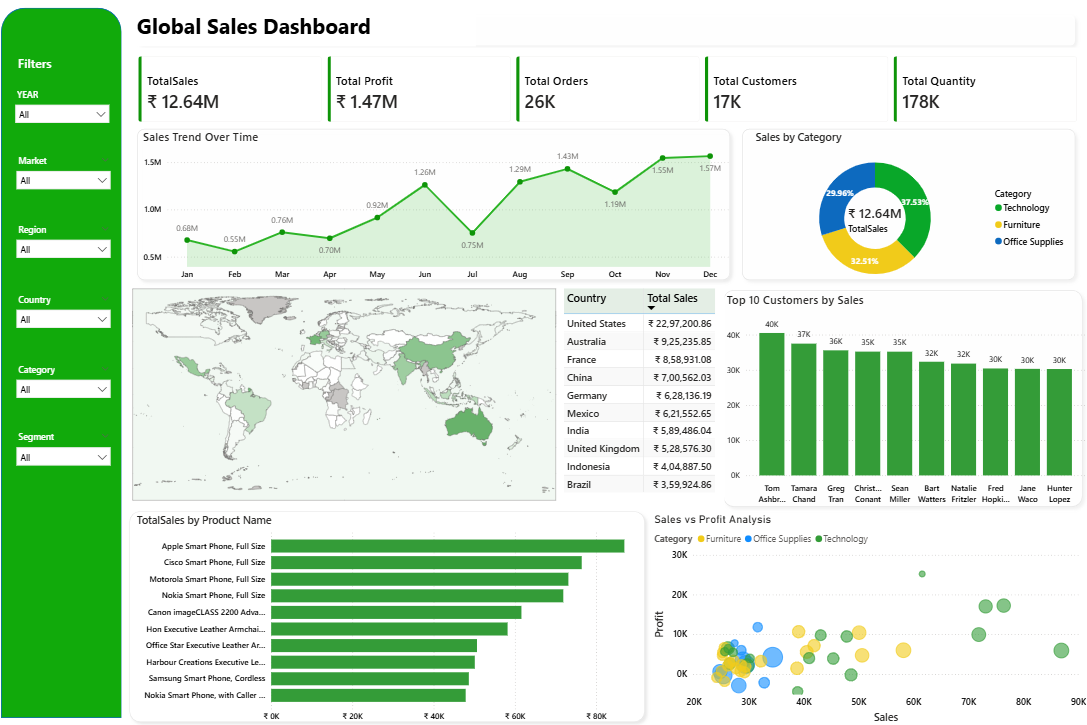

The page's visual inventory and layout, read from the dashboard file:
{"tool":"powerbi","page":{"name":"Page 1","canvas":[1650,1100],"ordinal":0},"visuals":[{"type":"shape","box":[8,14,182,1072],"z":0},{"type":"textbox","box":[28,80,134,36],"z":1000},{"type":"slicer","fields":{"Values":["DateDim.YEAR"]},"box":[19.1,129.5,162.2,76.3],"z":2000},{"type":"slicer","fields":{"Values":["Orders.Market"]},"box":[20,230,162,76],"z":3000},{"type":"slicer","fields":{"Values":["Orders.Region"]},"box":[20,334,162,78],"z":4000},{"type":"slicer","fields":{"Values":["Orders.Country"]},"box":[20,440,162,76],"z":5000},{"type":"slicer","fields":{"Values":["Orders.Category"]},"box":[20,546,162,76],"z":6000},{"type":"slicer","fields":{"Values":["Orders.Segment"]},"box":[20,648,162,76],"z":7000},{"type":"shape","box":[203.8,15.1,1434,64.2],"z":8000},{"type":"textbox","box":[207.5,13.2,517,58.5],"z":9000},{"type":"cardVisual","fields":{"Data":["Orders.TotalSales","Orders.Total Profit","Orders.Total Orders","Orders.Total Customers","Orders.Total Quantity"]},"box":[201.8,72.9,1447.9,125.2],"z":10000},{"type":"shape","box":[203.6,186.8,913.6,246.6],"z":11000},{"type":"lineChart","title":"Sales Trend Over Time","fields":{"Category":["DateDim.Month"],"Y":["Sum(Orders.Sales)"]},"box":[216.7,196.2,894.9,237.3],"z":12000},{"type":"shape","box":[1117.2,186.8,521.2,246.6],"z":13000},{"type":"donutChart","title":"Sales by Category","fields":{"Y":["Orders.TotalSales"],"Category":["Orders.Category"]},"box":[1141.5,196.2,483.9,252.2],"z":14000},{"type":"cardVisual","fields":{"Data":["Orders.TotalSales"]},"box":[1268.5,295.2,125.2,76.6],"z":15000},{"type":"shape","box":[1089.2,429.7,560.5,345.6],"z":16000},{"type":"shapeMap","fields":{"Category":["Orders.Country"],"Value":["Sum(Orders.Sales)"]},"box":[161.2,418.5,730.7,356.8],"z":17000},{"type":"tableEx","fields":{"Values":["Orders.Country","Orders.TS"]},"box":[850.8,432.2,248.7,329.3],"z":18000},{"type":"columnChart","title":"Top 10 Customers by Sales","fields":{"Y":["Sum(Orders.Sales)"],"Category":["Orders.Customer Name"]},"box":[1098.5,440.9,551.1,328.8],"z":19000},{"type":"shape","box":[192.4,764.1,795.9,336.3],"z":20000},{"type":"clusteredBarChart","fields":{"Category":["Orders.Product Name"],"Y":["Orders.TotalSales"]},"box":[207.4,775.3,780.9,325.1],"z":21000},{"type":"scatterChart","title":"Sales vs Profit Analysis","fields":{"Y":["Sum(Orders.Profit)"],"Size":["Sum(Orders.Quantity)"],"Series":["Orders.Category"],"Category":["Orders.Product Name"],"X":["Sum(Orders.Sales)"]},"box":[988,776,662,324],"z":22000}]}

Visuals, with their boxes in screenshot pixels (x1, y1, x2, y2), scaled from the page's 1650x1100 canvas onto the 1087x725 screenshot:
shape: [5,9,125,716]
textbox: [18,53,107,76]
slicer - DateDim.YEAR: [13,85,119,136]
slicer - Orders.Market: [13,152,120,202]
slicer - Orders.Region: [13,220,120,272]
slicer - Orders.Country: [13,290,120,340]
slicer - Orders.Category: [13,360,120,410]
slicer - Orders.Segment: [13,427,120,477]
shape: [134,10,1079,52]
textbox: [137,9,477,47]
cardVisual - Orders.TotalSales x Orders.Total Profit: [133,48,1086,131]
shape: [134,123,736,286]
"Sales Trend Over Time" lineChart: [143,129,732,286]
shape: [736,123,1079,286]
"Sales by Category" donutChart: [752,129,1071,296]
cardVisual - Orders.TotalSales: [836,195,918,245]
shape: [718,283,1086,511]
shapeMap - Orders.Country x Sum(Orders.Sales): [106,276,588,511]
tableEx - Orders.Country x Orders.TS: [560,285,724,502]
"Top 10 Customers by Sales" columnChart: [724,291,1086,507]
shape: [127,504,651,724]
clusteredBarChart - Orders.Product Name x Orders.TotalSales: [137,511,651,724]
"Sales vs Profit Analysis" scatterChart: [651,511,1086,724]
